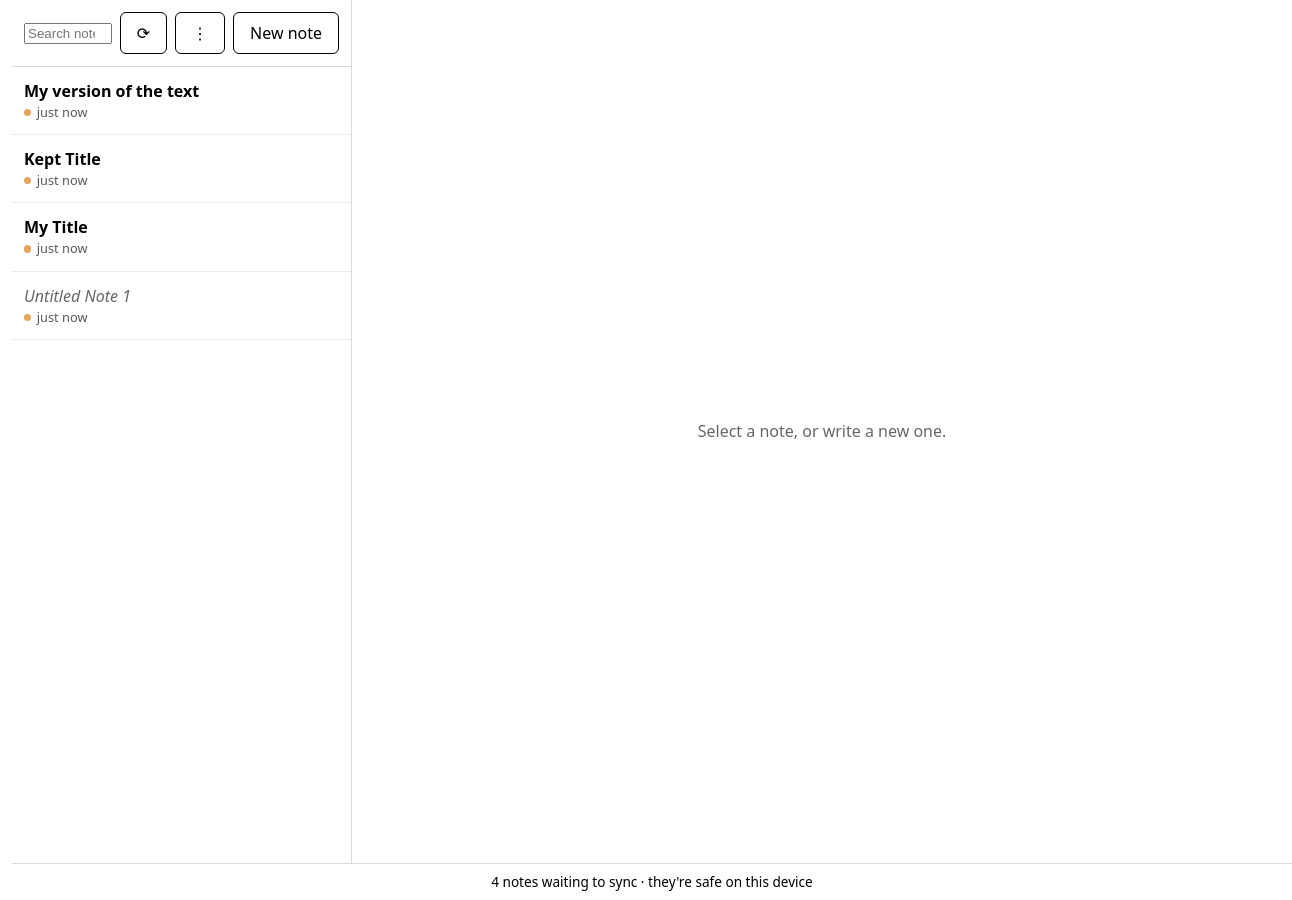
Test: AppShell › deleting a note moves it to Trash, and it can be restored
Click the button "New note".
click(286, 33)  # box [233,12,339,54]
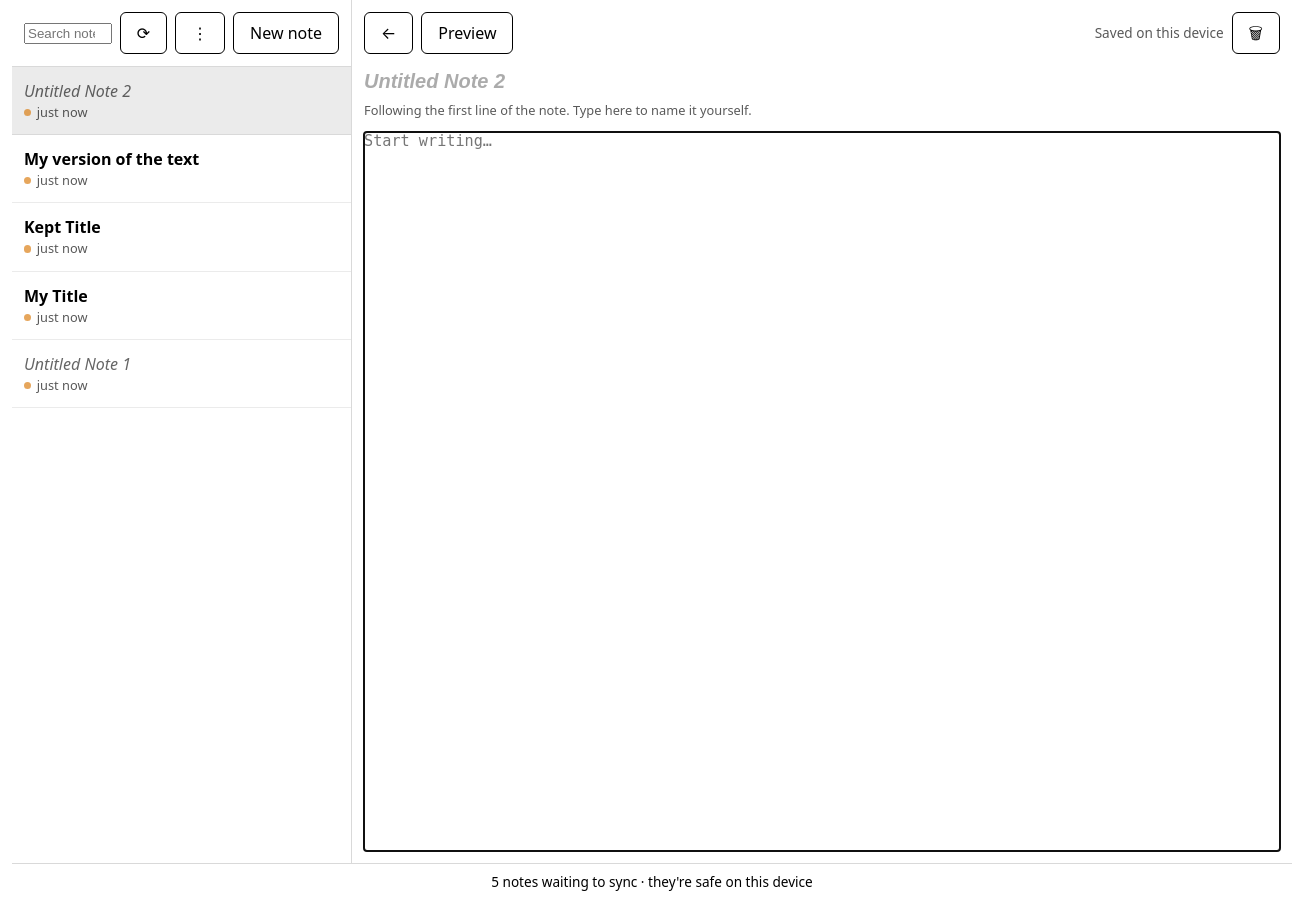
Now the text box named "Note body" is shown
Type "Doomed note" into the text box named "Note body".
click(822, 491); type("Doomed note")  # box [364,132,1280,851]
Click the button named "Move to Trash".
click(1256, 33)  # box [1232,12,1280,54]
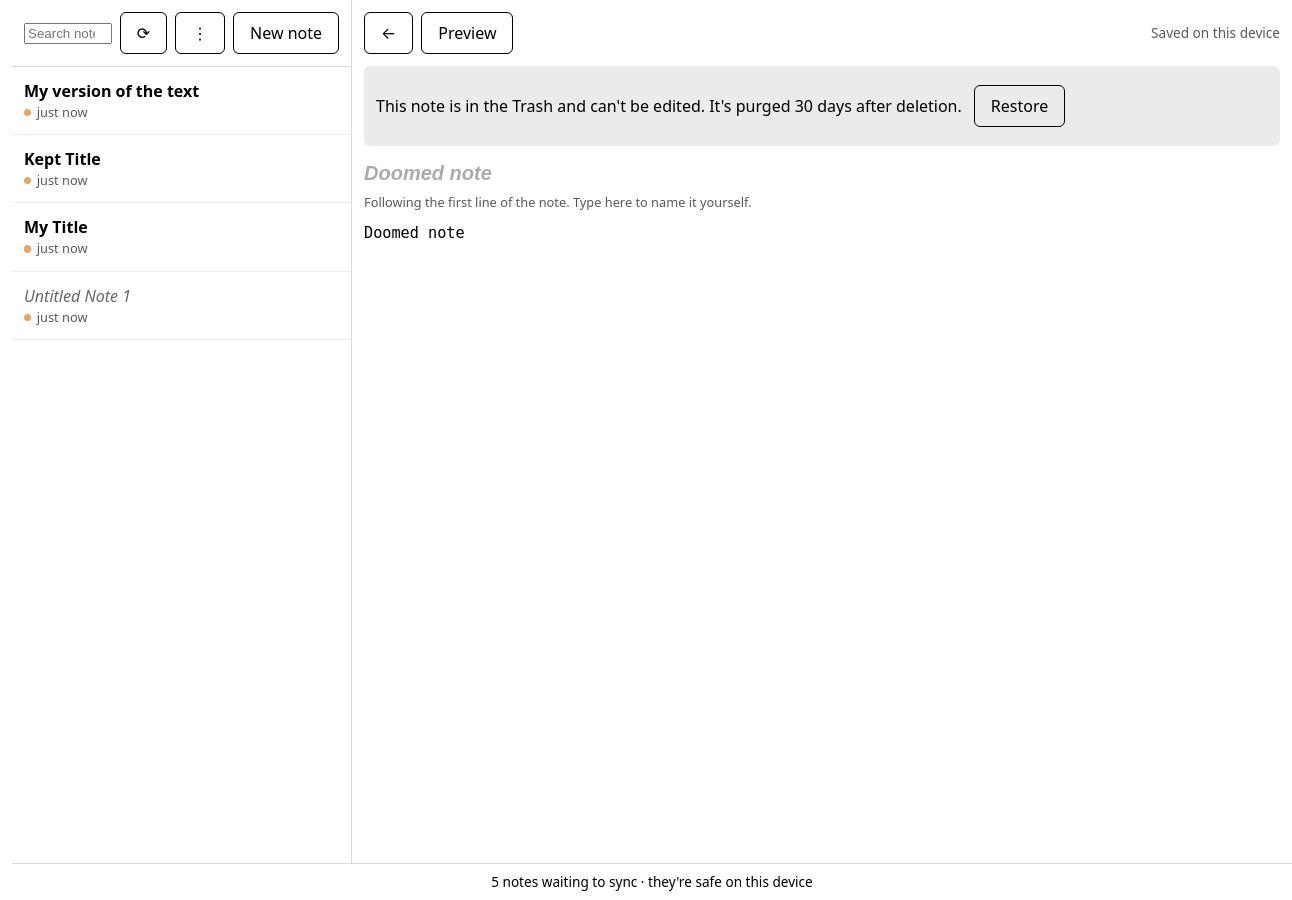
Now the text box named "Note body" is disabled, box [364,224,1280,851]
Click the button named "Menu".
click(200, 33)  # box [175,12,225,54]
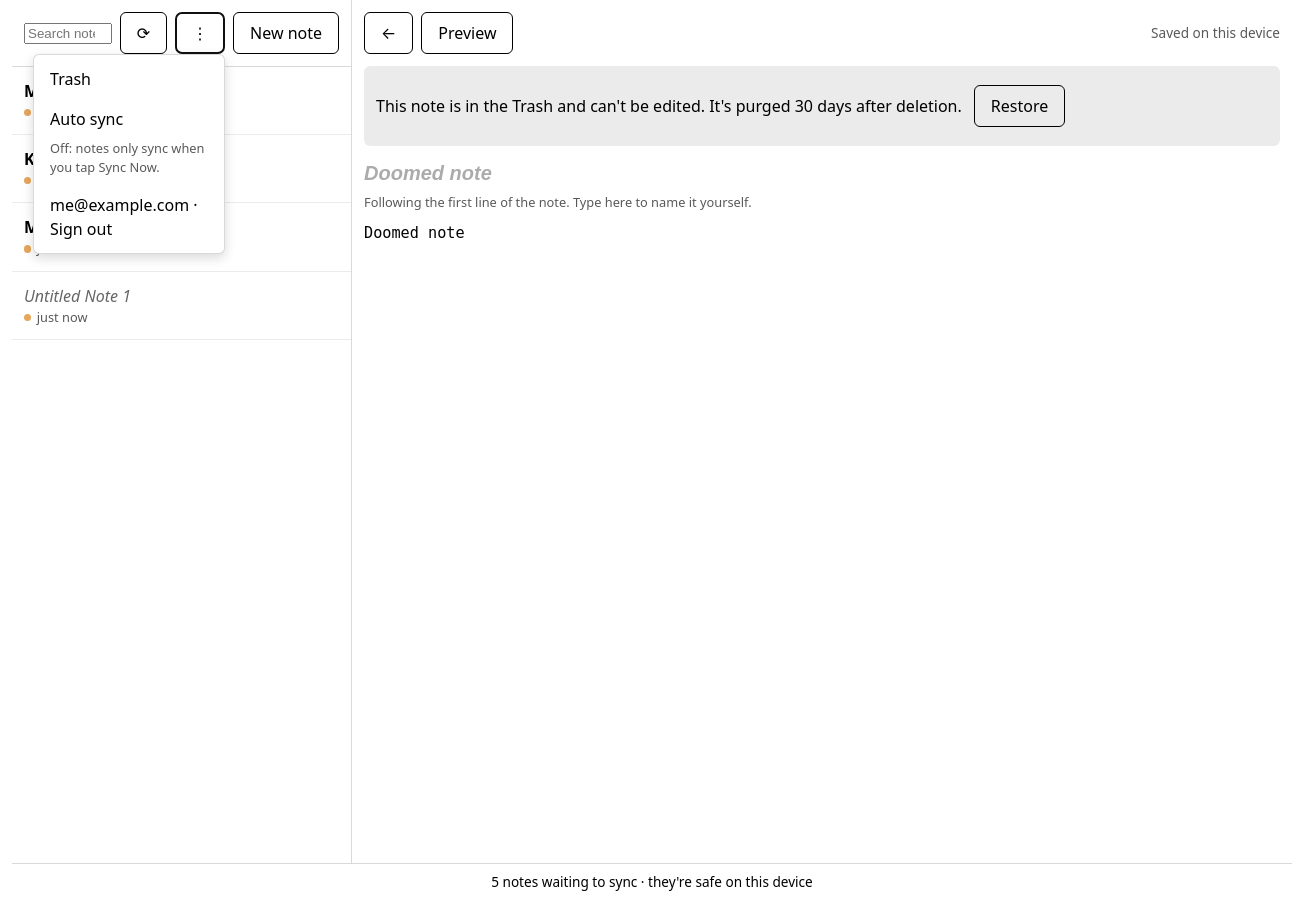
Click the menu item "Trash".
click(129, 79)  # box [38,59,220,99]
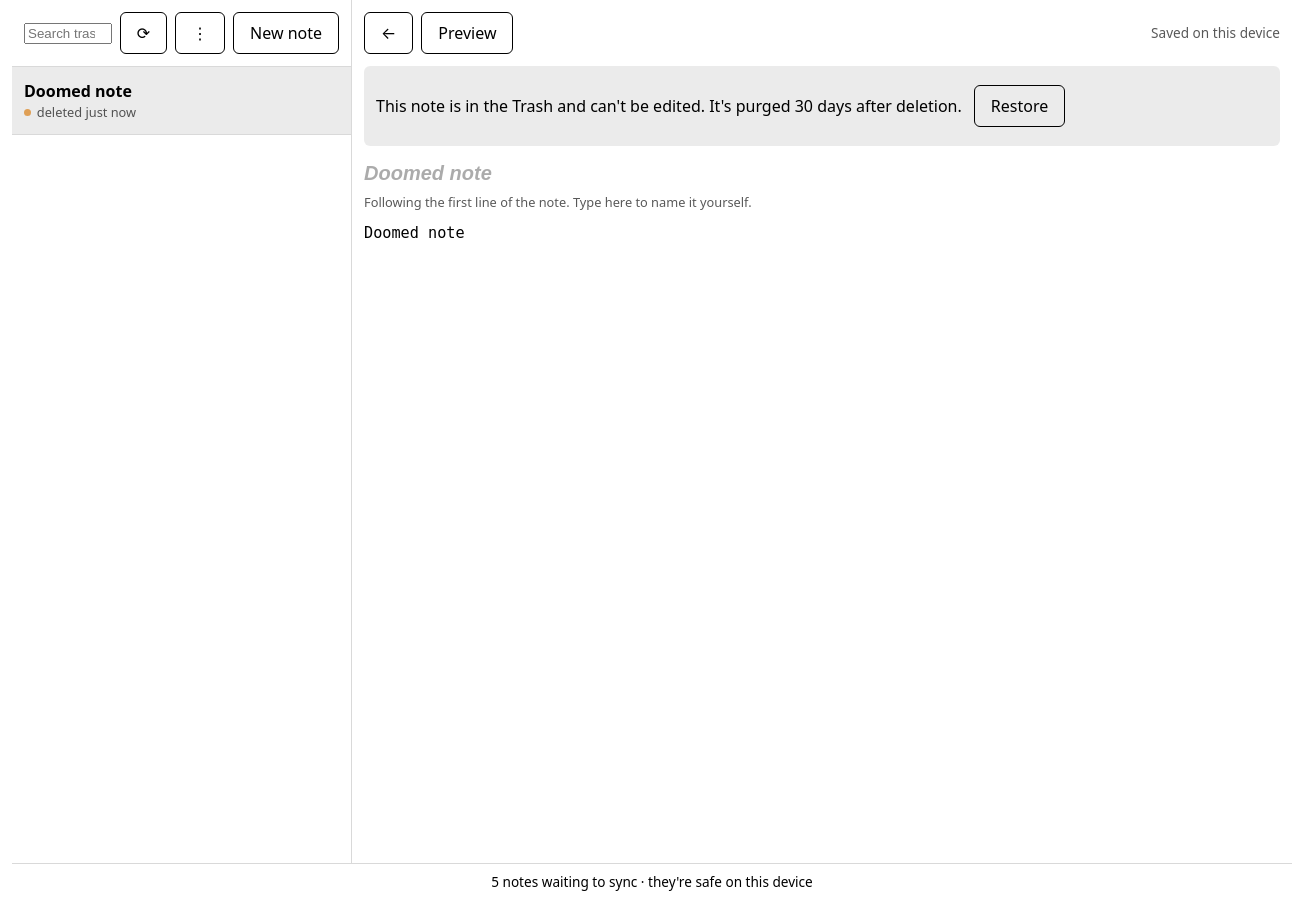
Now the button "Doomed note deleted just now" is shown
Click the button "Doomed note deleted just now".
click(78, 91)  # box [12,67,351,135]
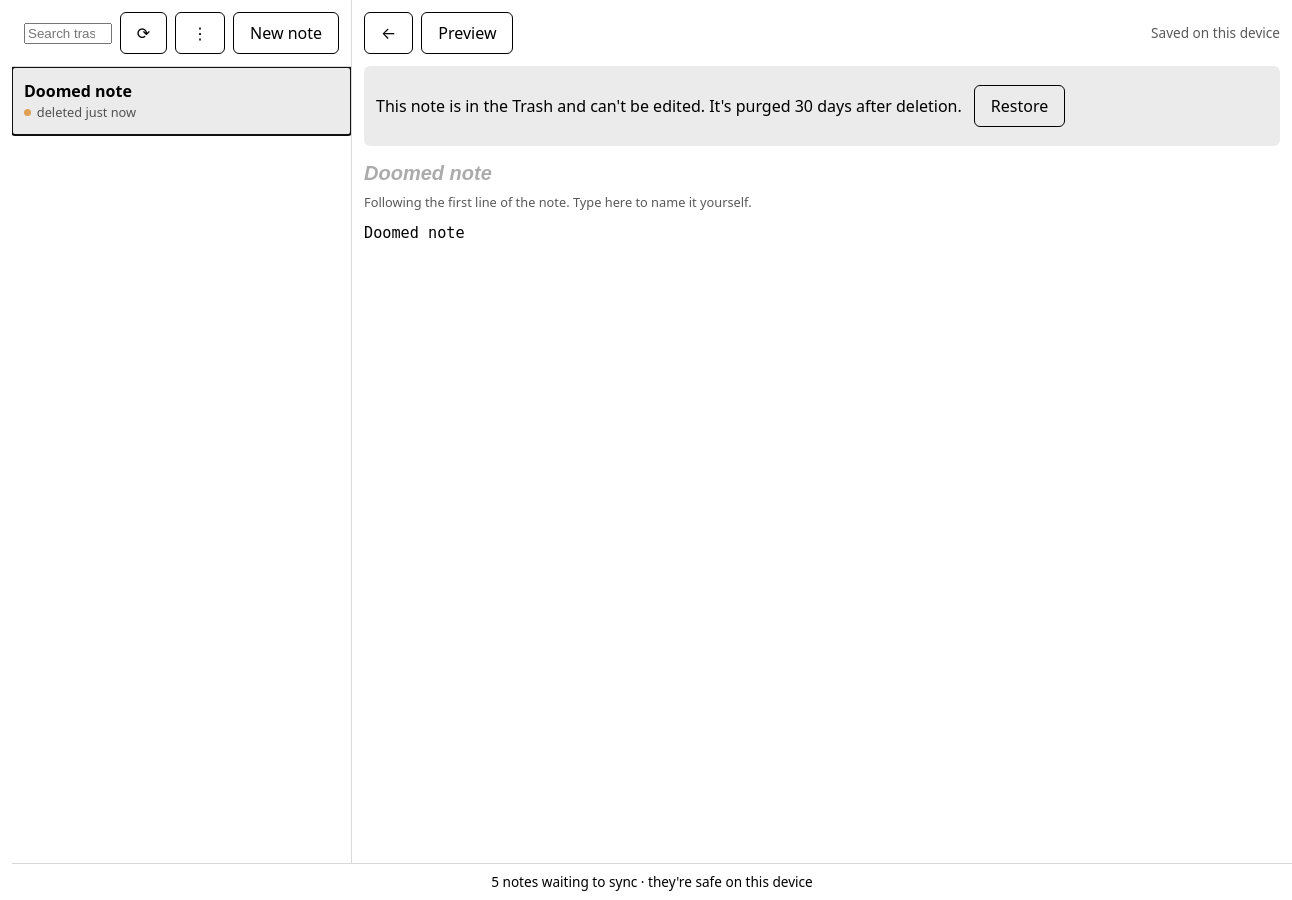
Now the button "Restore" is shown
Click the button "Restore".
click(1020, 106)  # box [974,85,1065,127]
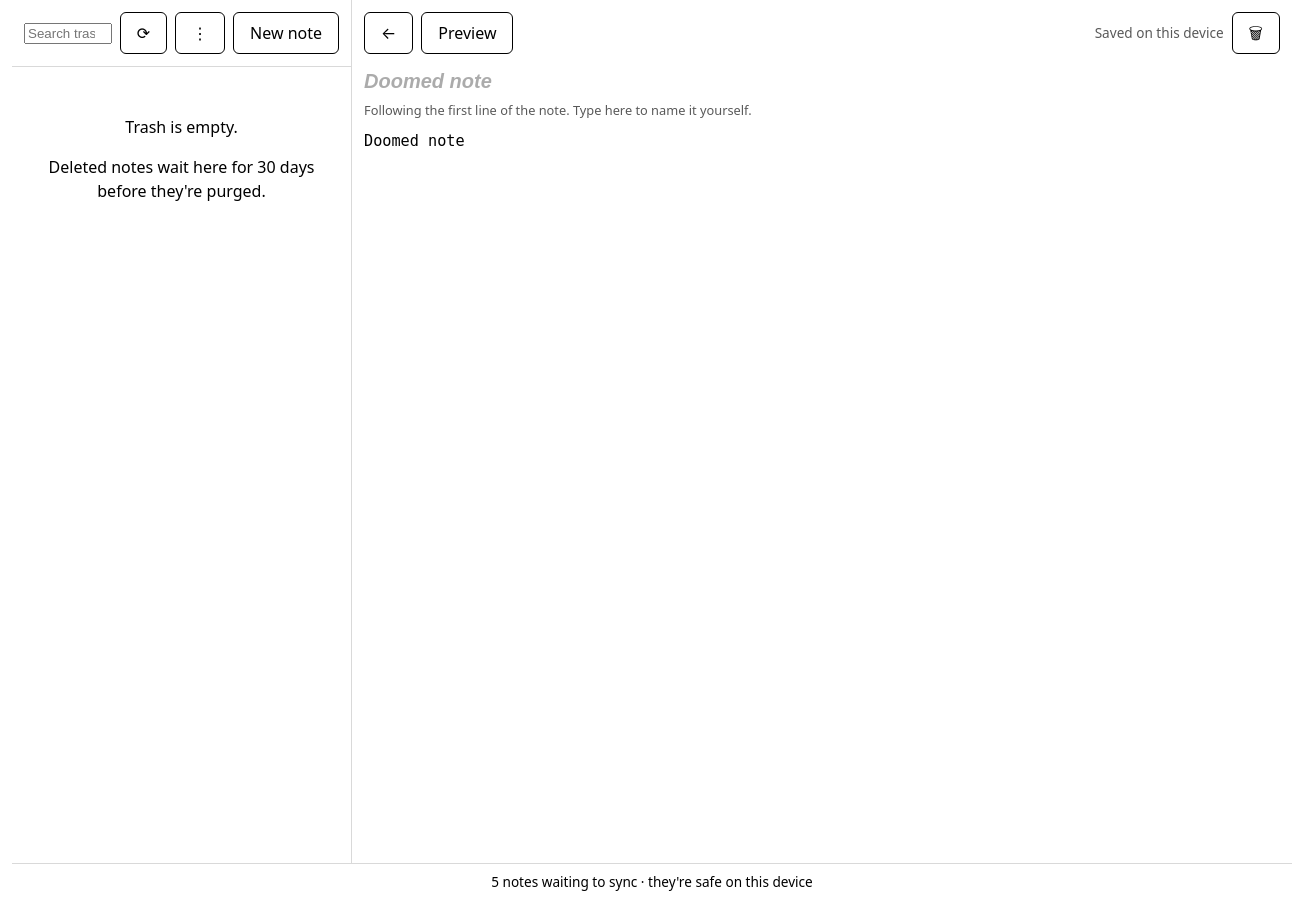
Now the button "Restore" is gone
